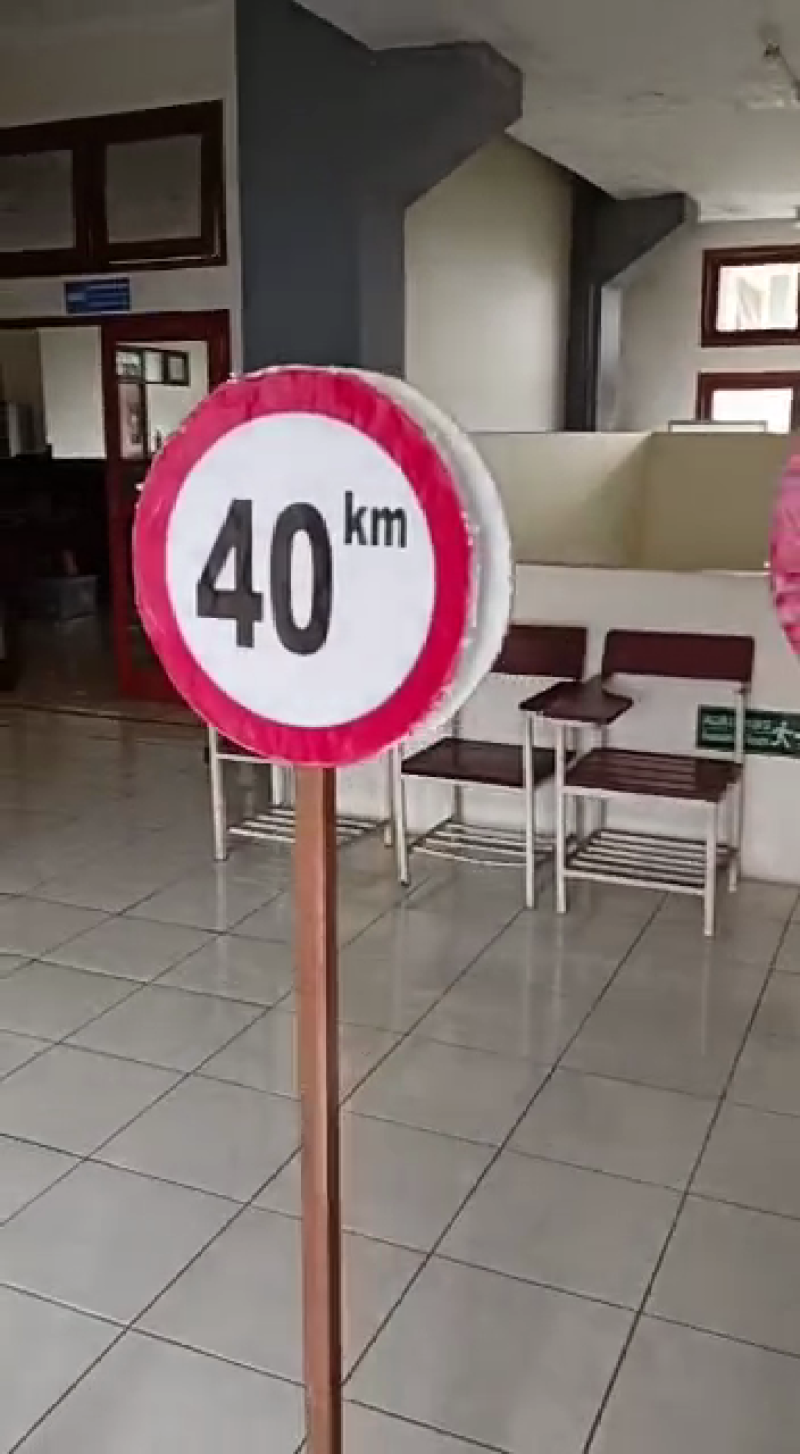batas maksimal 40kmperjam: (114, 354, 487, 771)
